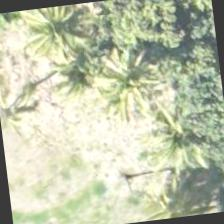Kelapa_Sawit: (72, 32, 172, 132), (132, 81, 223, 183), (15, 0, 112, 72), (128, 161, 223, 222)
